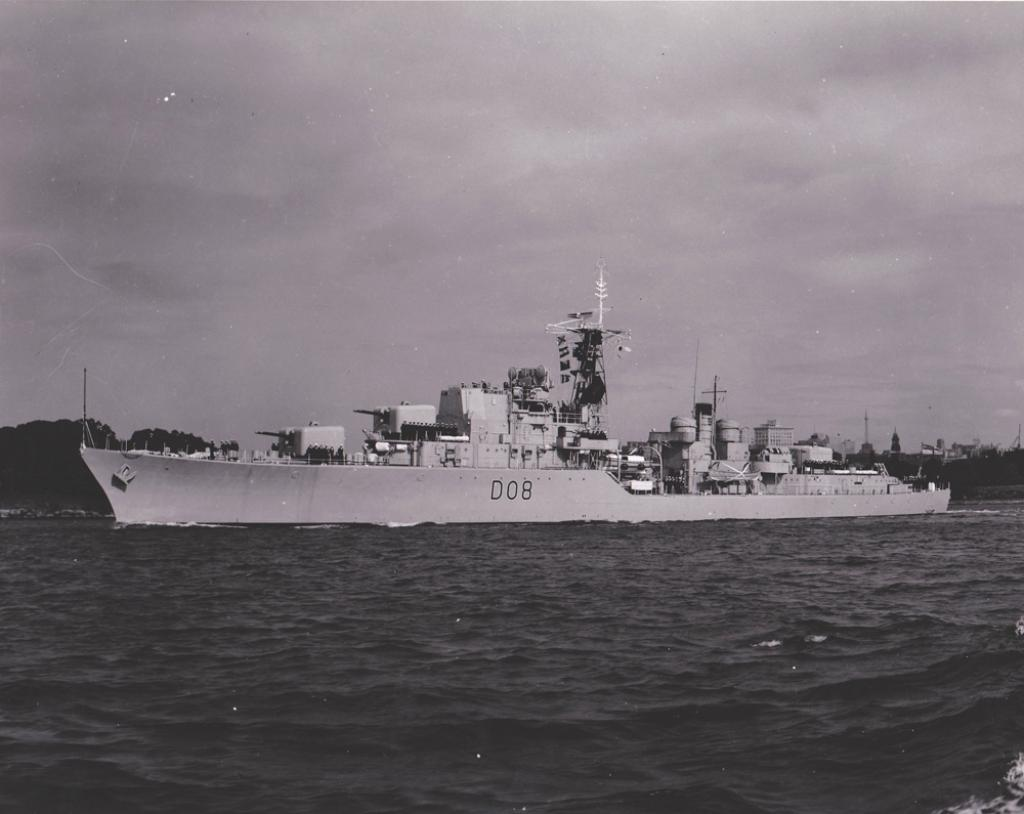Warship: (68, 278, 960, 530)
